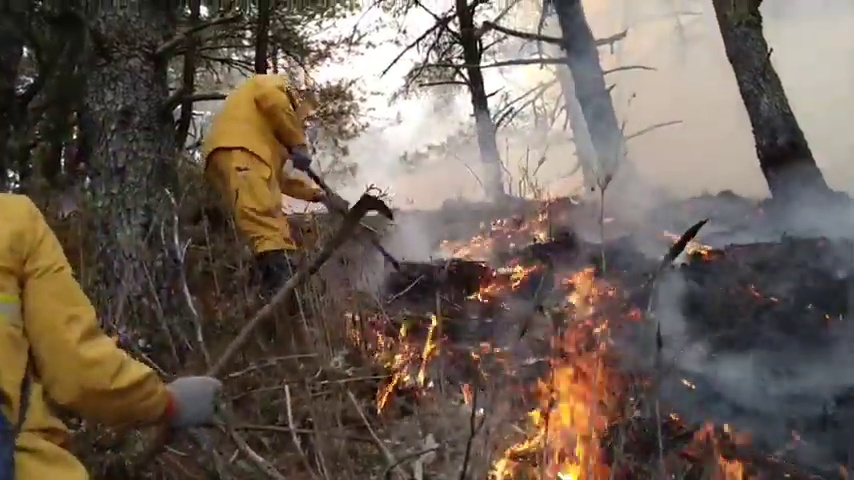fire: (496, 364, 587, 480), (569, 271, 596, 306), (423, 319, 438, 355), (511, 264, 523, 284), (416, 367, 426, 384)
